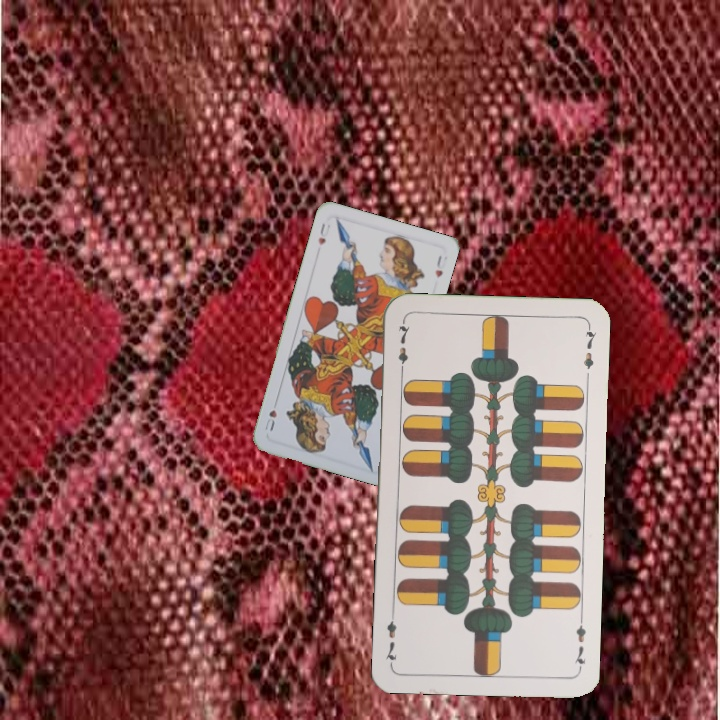E7: (394, 318, 413, 377), (570, 613, 589, 672)
HU: (314, 219, 333, 248)
